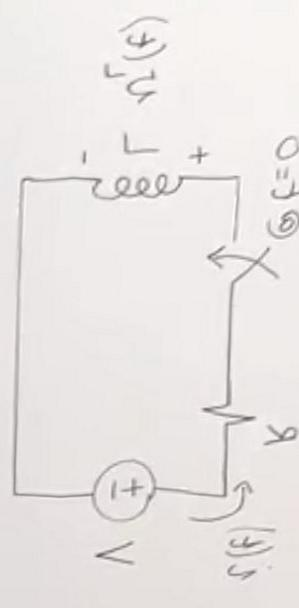Battery: (73, 442, 160, 536)
